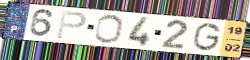2: (160, 19, 191, 51)
4: (126, 15, 153, 48)
6: (29, 8, 55, 39)
G: (191, 22, 223, 53)
O: (93, 14, 124, 45)
P: (55, 10, 88, 41)
